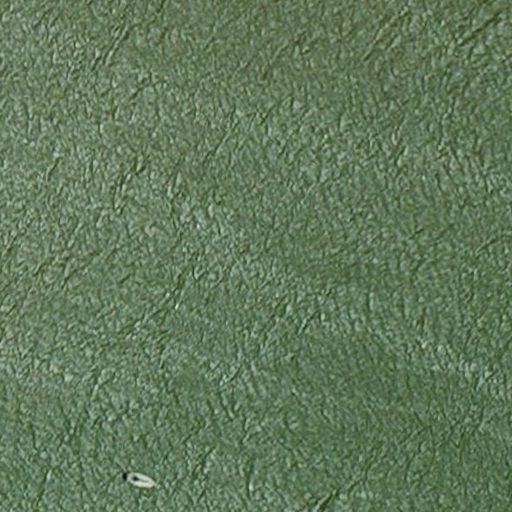ship: (122, 468, 159, 492)
